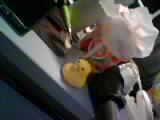duck: (62, 45, 98, 98)
